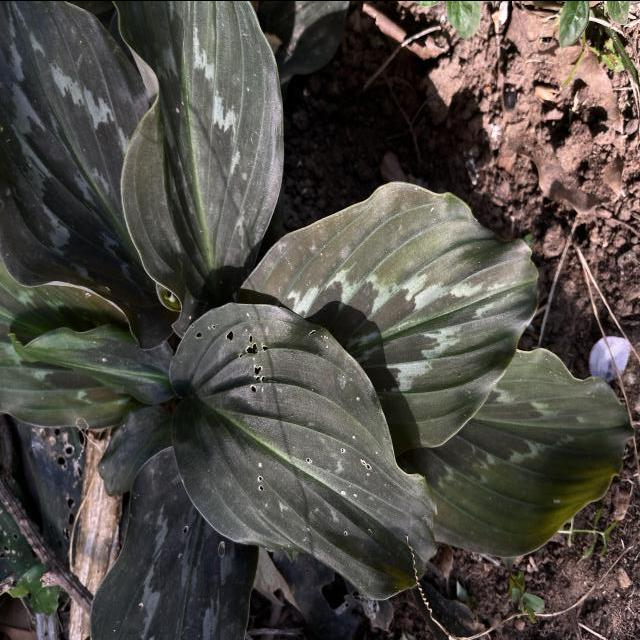Kaempferia galanga linn: (233, 177, 541, 459), (165, 299, 441, 604), (0, 0, 179, 352), (110, 0, 287, 340), (430, 344, 638, 560), (3, 316, 175, 408)
